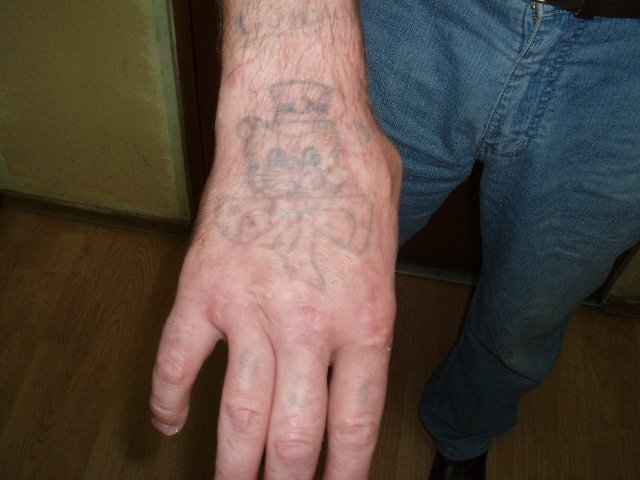tatu8_kot: (204, 68, 393, 281)
